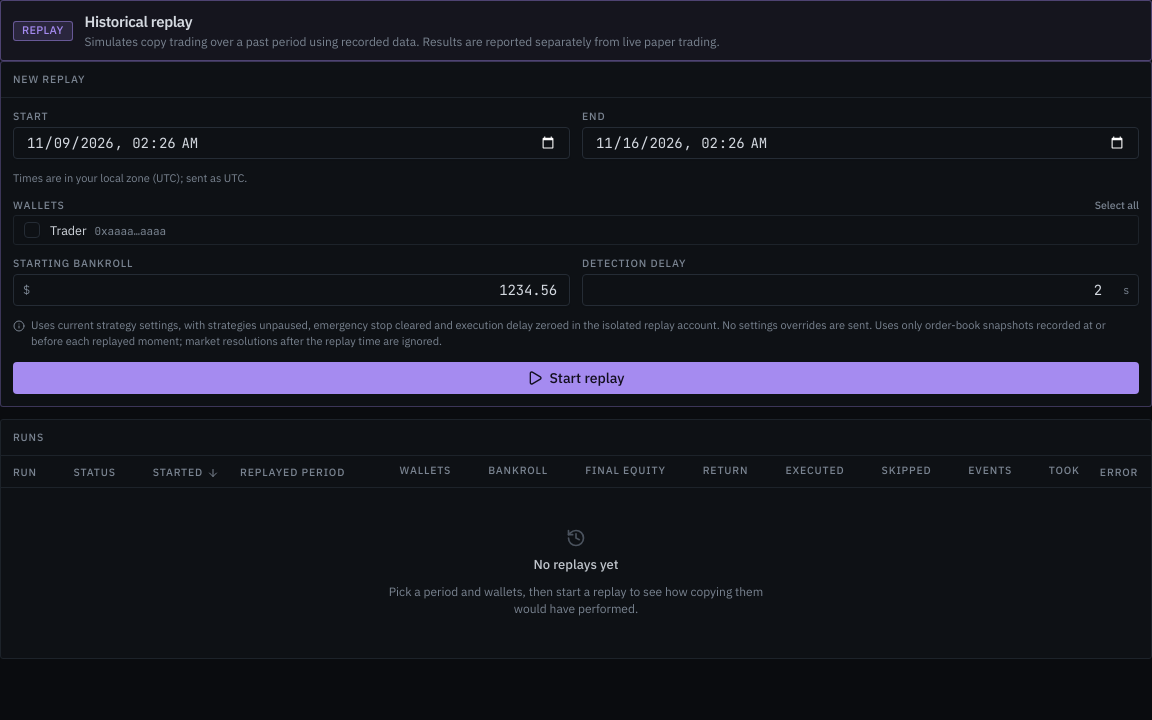
ReplayPage › rejects a replay window longer than 31 days
Click the checkbox at x=32, y=230, box x1=24 y1=222 x2=40 y2=238
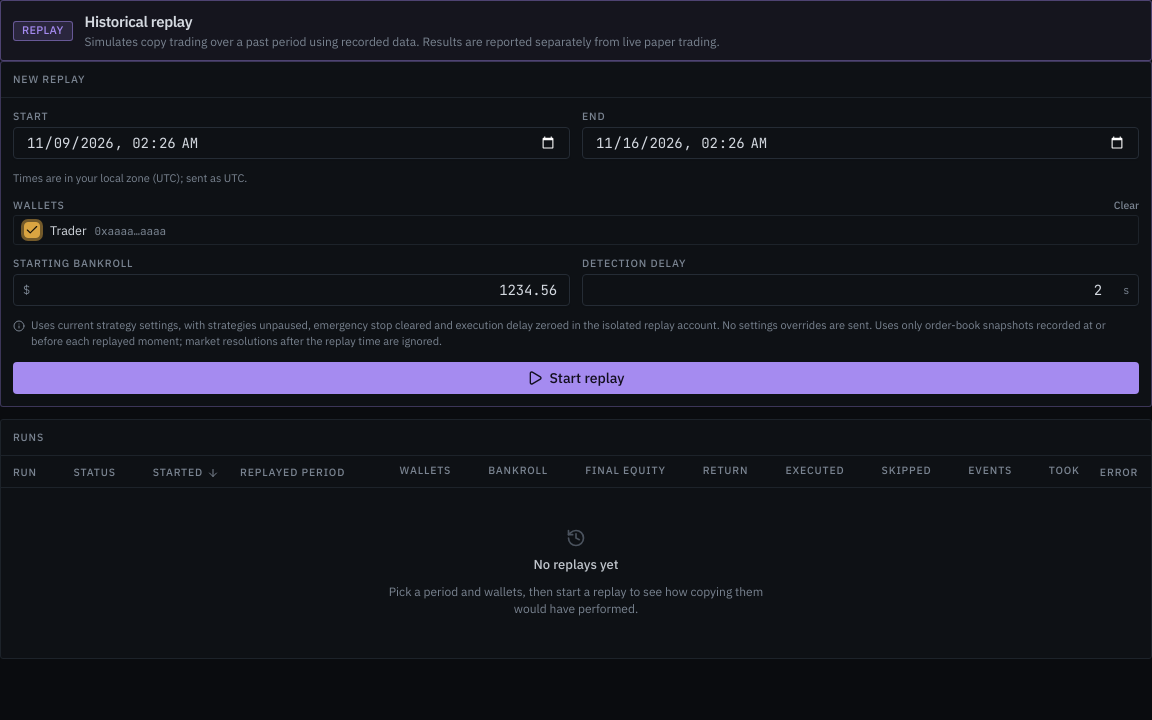
expect the field with test id "replay-bankroll" holds "1234.56": met, box x1=13 y1=274 x2=570 y2=306
Replace the text in the field with test id "replay-start" with "2026-01-01T00:00" at x=292, y=143, box x1=13 y1=127 x2=570 y2=159
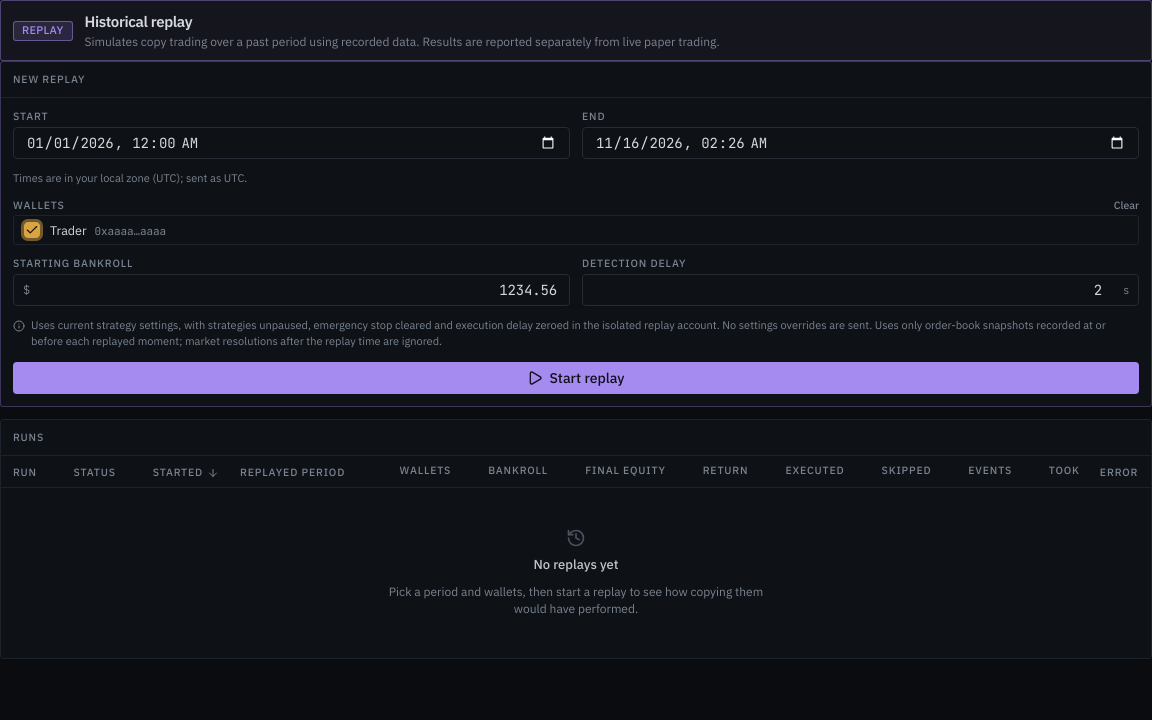
Replace the text in the field with test id "replay-end" with "2026-03-01T00:00" at x=860, y=143, box x1=582 y1=127 x2=1139 y2=159
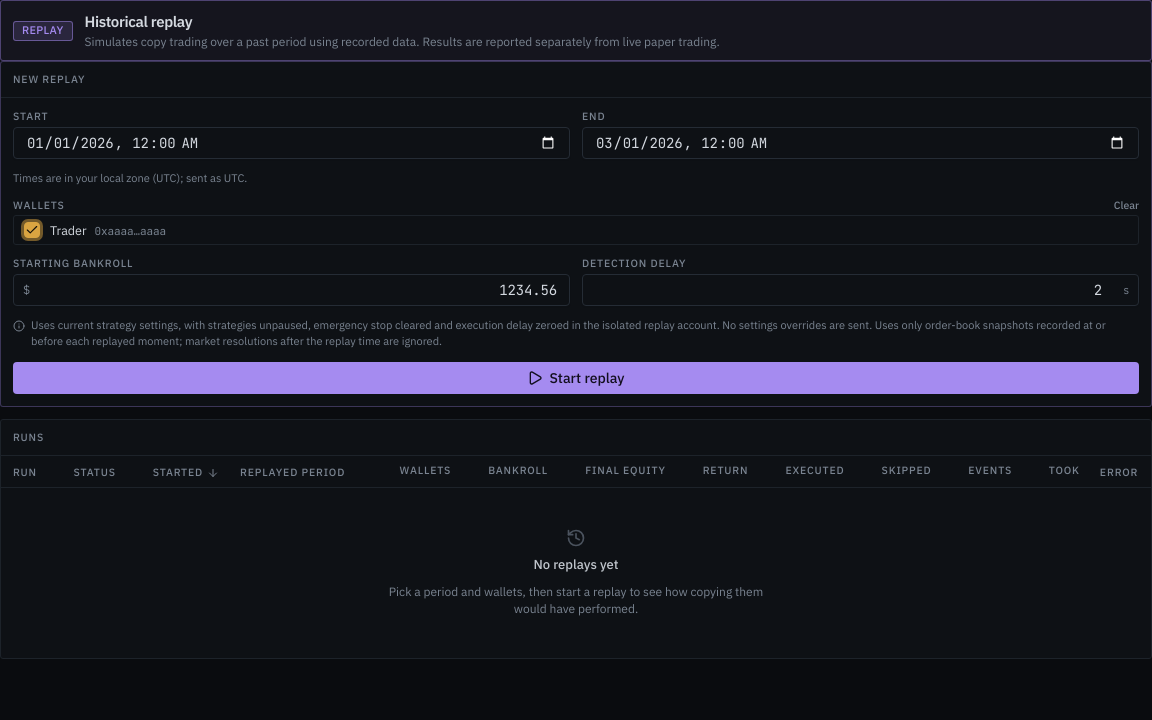
Click the button with test id "replay-submit" at x=576, y=378, box x1=13 y1=362 x2=1139 y2=394
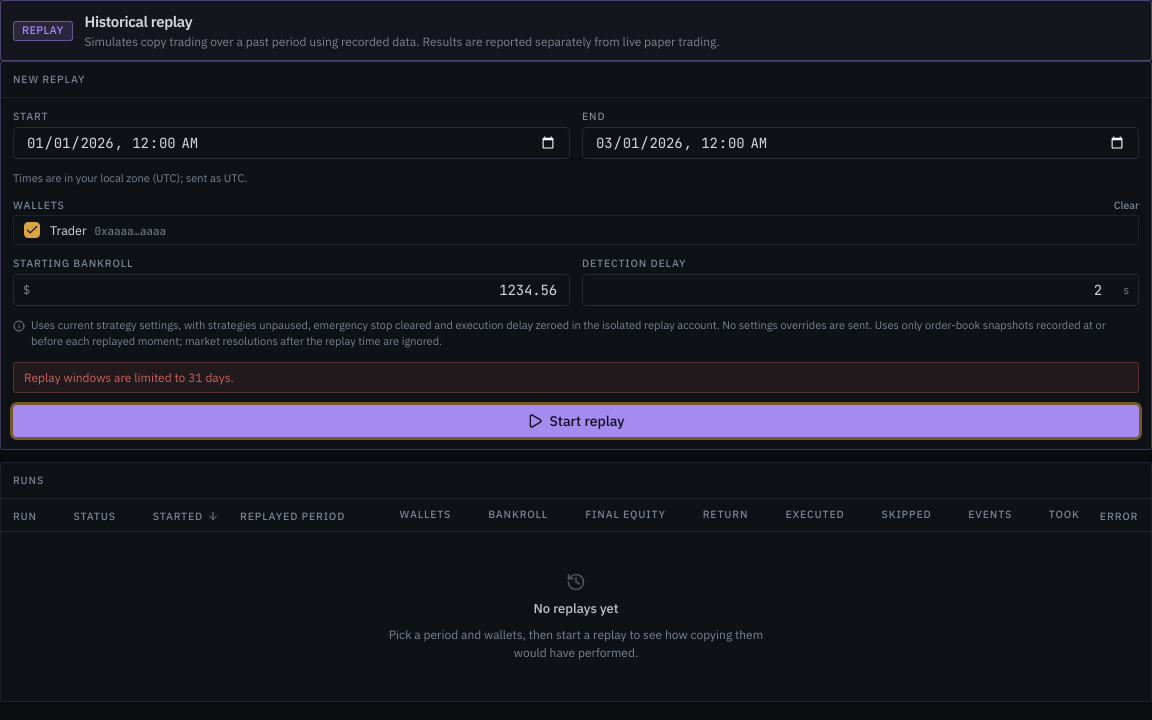
expect the message reads "Replay windows are limited to 31 days.": met, box x1=24 y1=370 x2=234 y2=385
